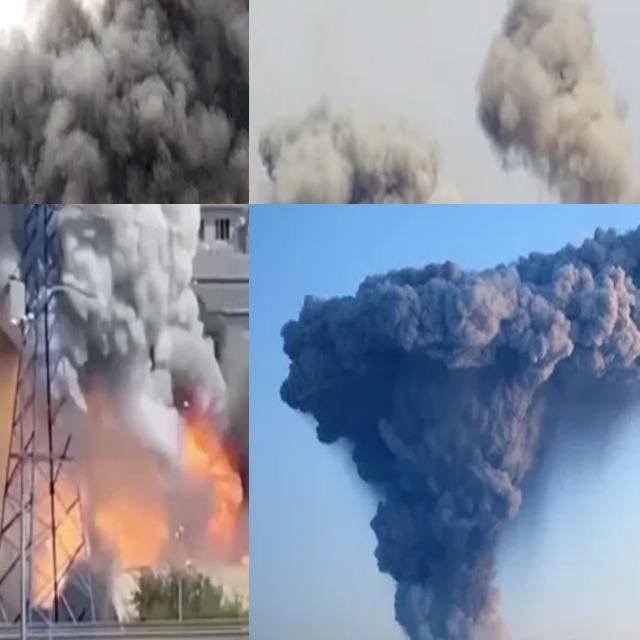smoke: (277, 208, 640, 640), (0, 204, 237, 583), (0, 0, 249, 204), (475, 0, 640, 204), (271, 103, 497, 204)
